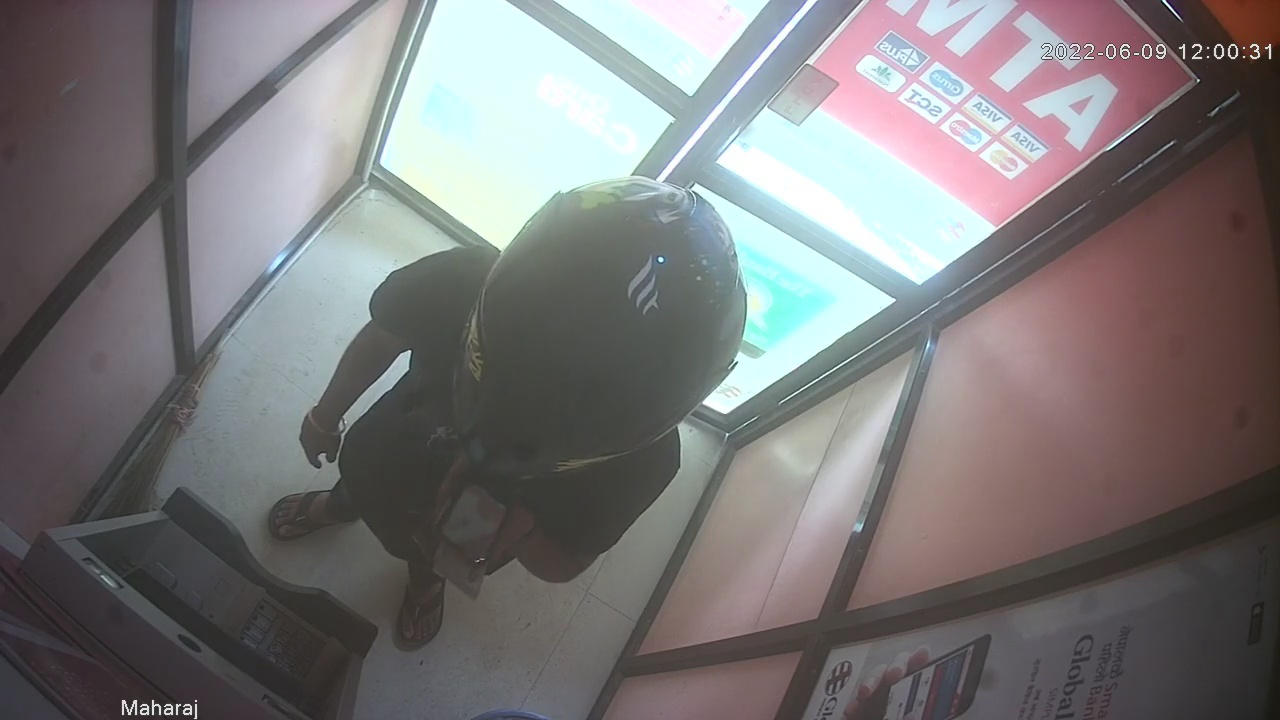helmet: (453, 172, 744, 481)
person: (269, 173, 748, 655)
